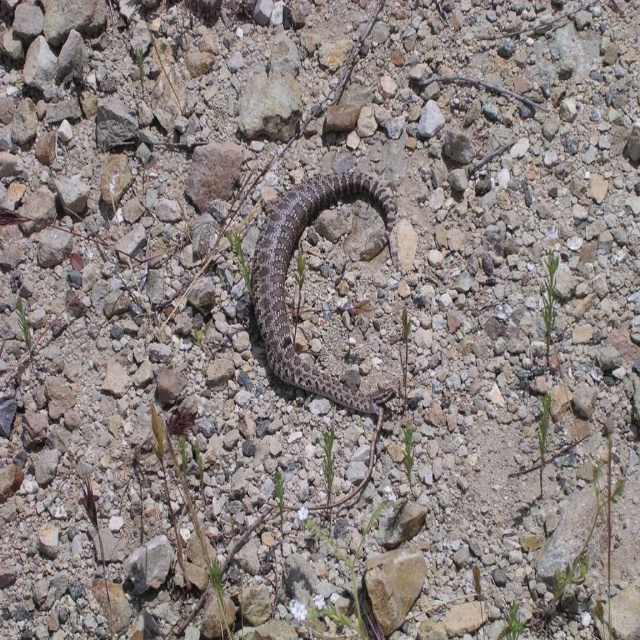Snake: (248, 171, 397, 421)
